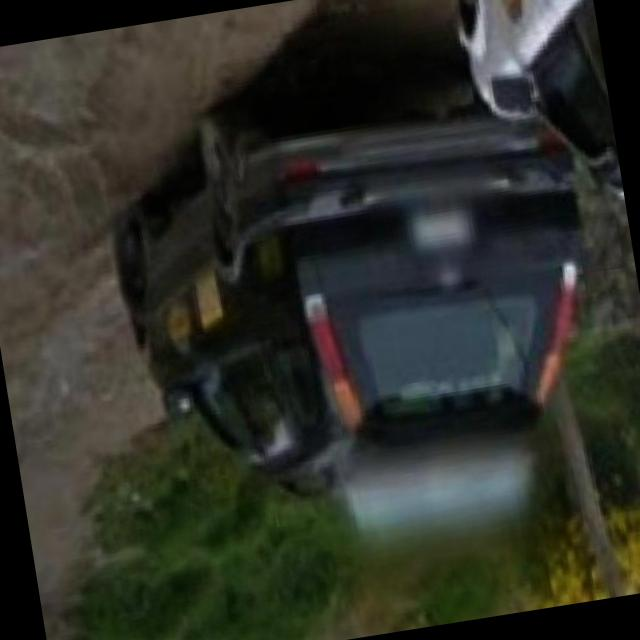car: (100, 64, 621, 544)
